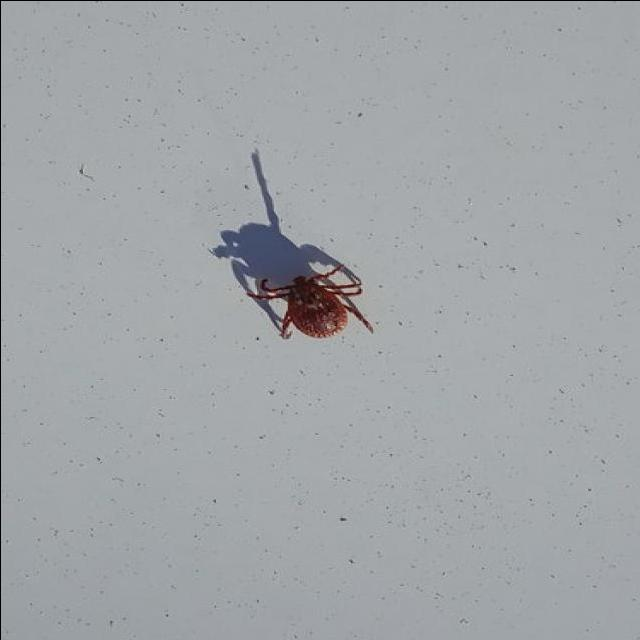Dermacentor Reticulatus-F: (232, 259, 374, 338)
